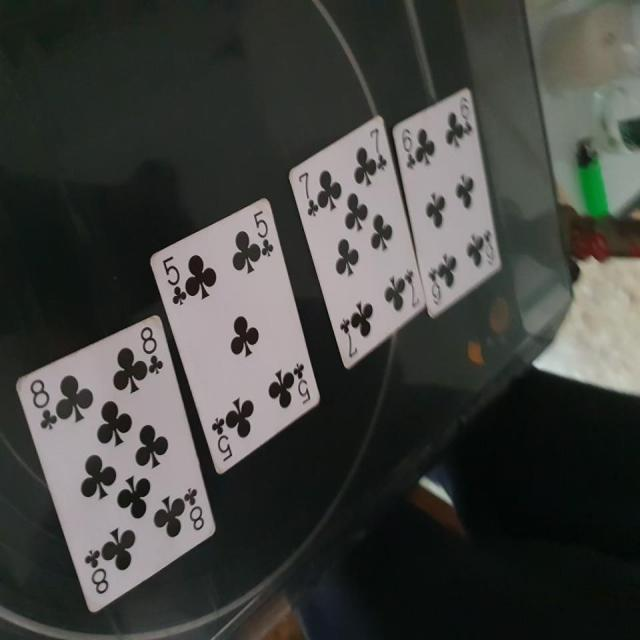5 Trefoils: (146, 193, 320, 472)
6 Trefoils: (391, 85, 503, 320)
7 Trefoils: (285, 115, 429, 369)
8 Trefoils: (18, 315, 218, 613)
